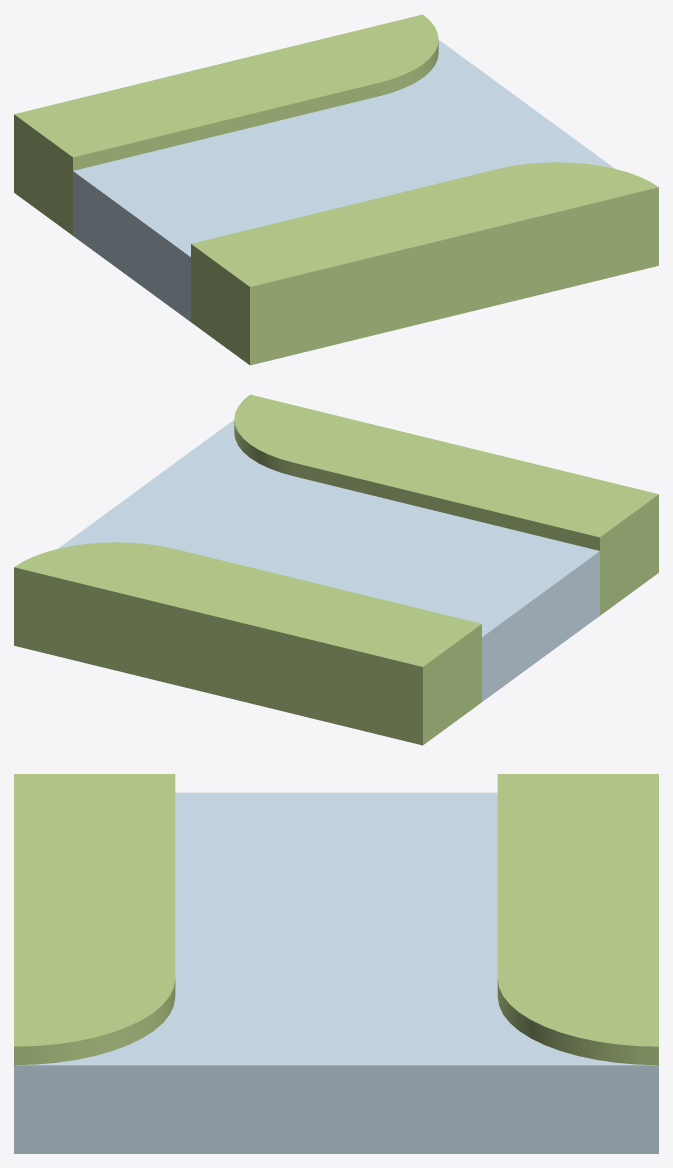
File: road_tile_176.glb
3 views of the same model, one above another, from view 1: azimuth 30°, elevation 25°; view 2: azimuth 150°, elevation 25°; view 3: azimuth 270°, elevation 25° (orthographic). The views are drawn at different scales.
Visible parts, largest first — view 1: roadTile_176; view 2: roadTile_176; view 3: roadTile_176.
Boxes of the visible parts, x1,y1,x2,y2 form: roadTile_176: [14, 14, 658, 365]; roadTile_176: [14, 394, 658, 745]; roadTile_176: [14, 774, 658, 1153].
Size of the model in its own units: 3 by 0.55 by 3.
